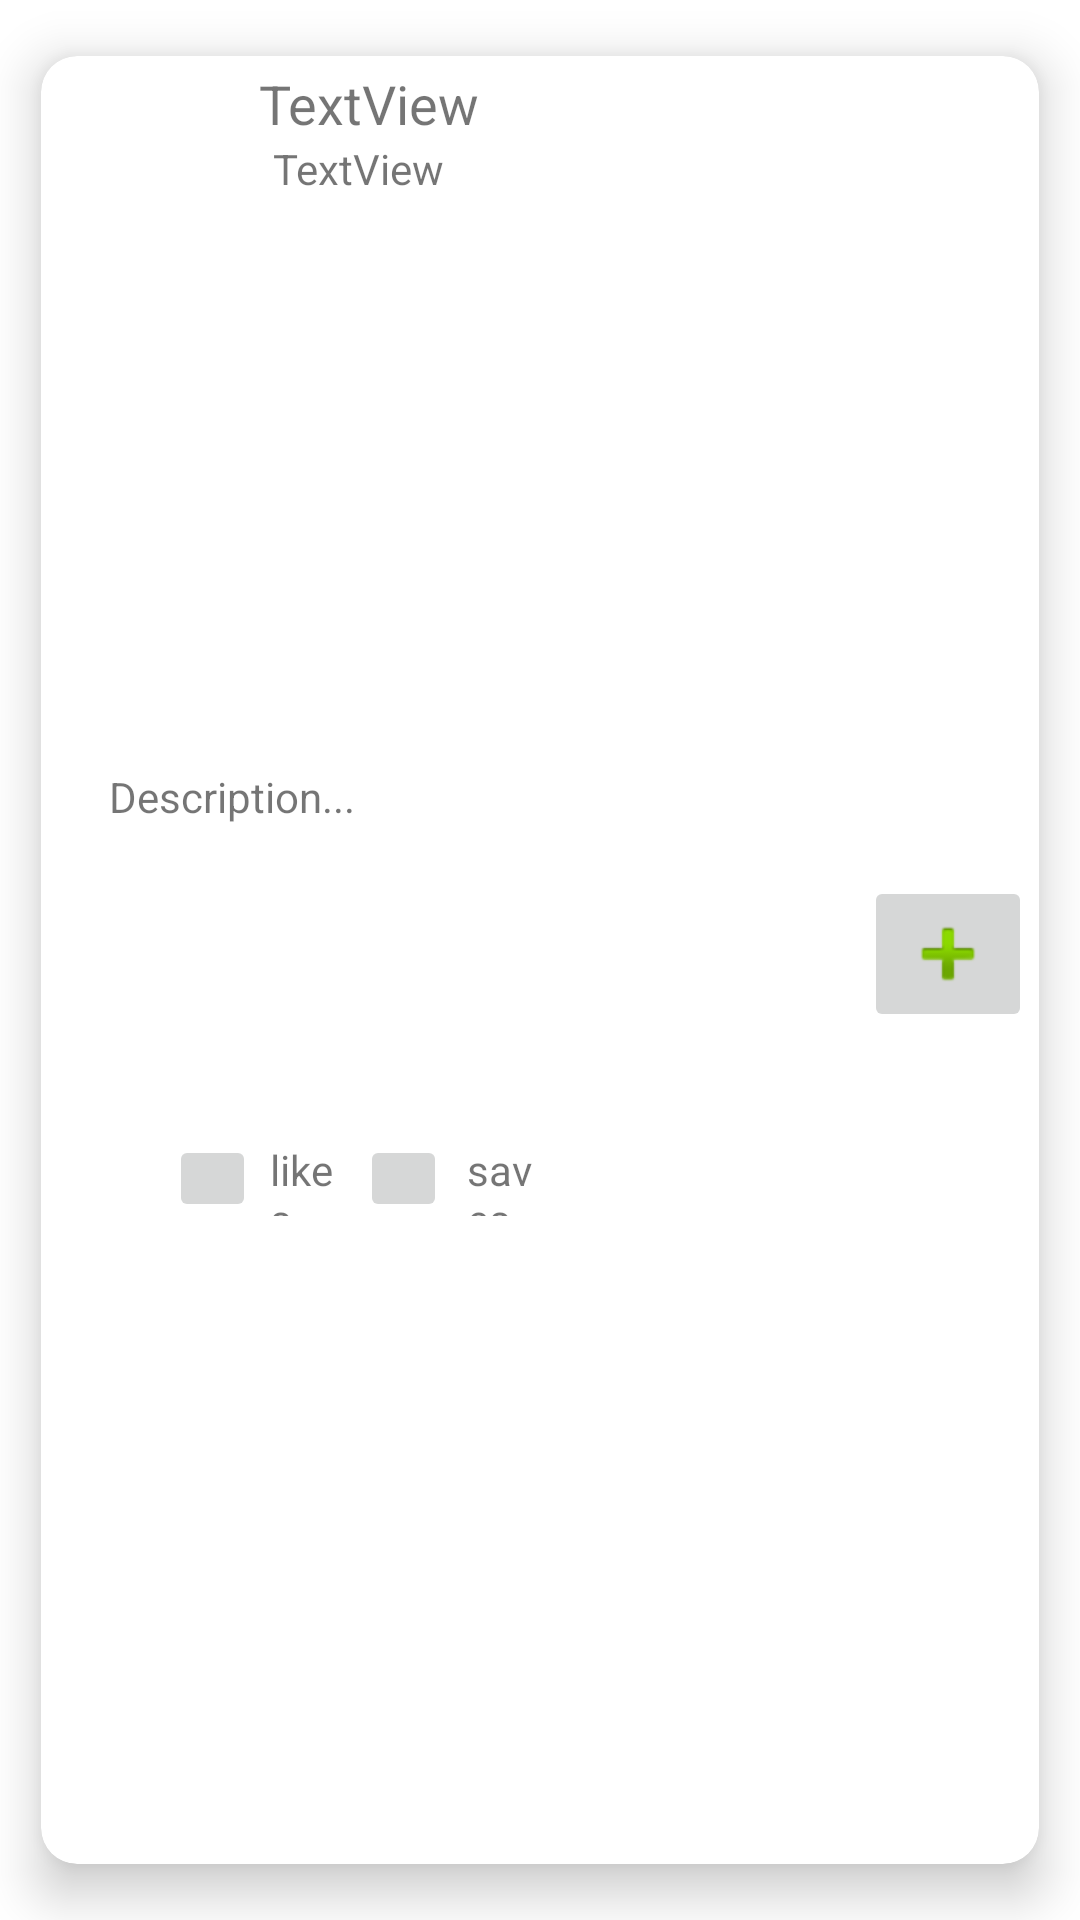

Locate icon controls on the screen. Image size 1080px x 1920px, boxes as (x1, y1, x2, y2).
add: (876, 894, 1020, 1014)
